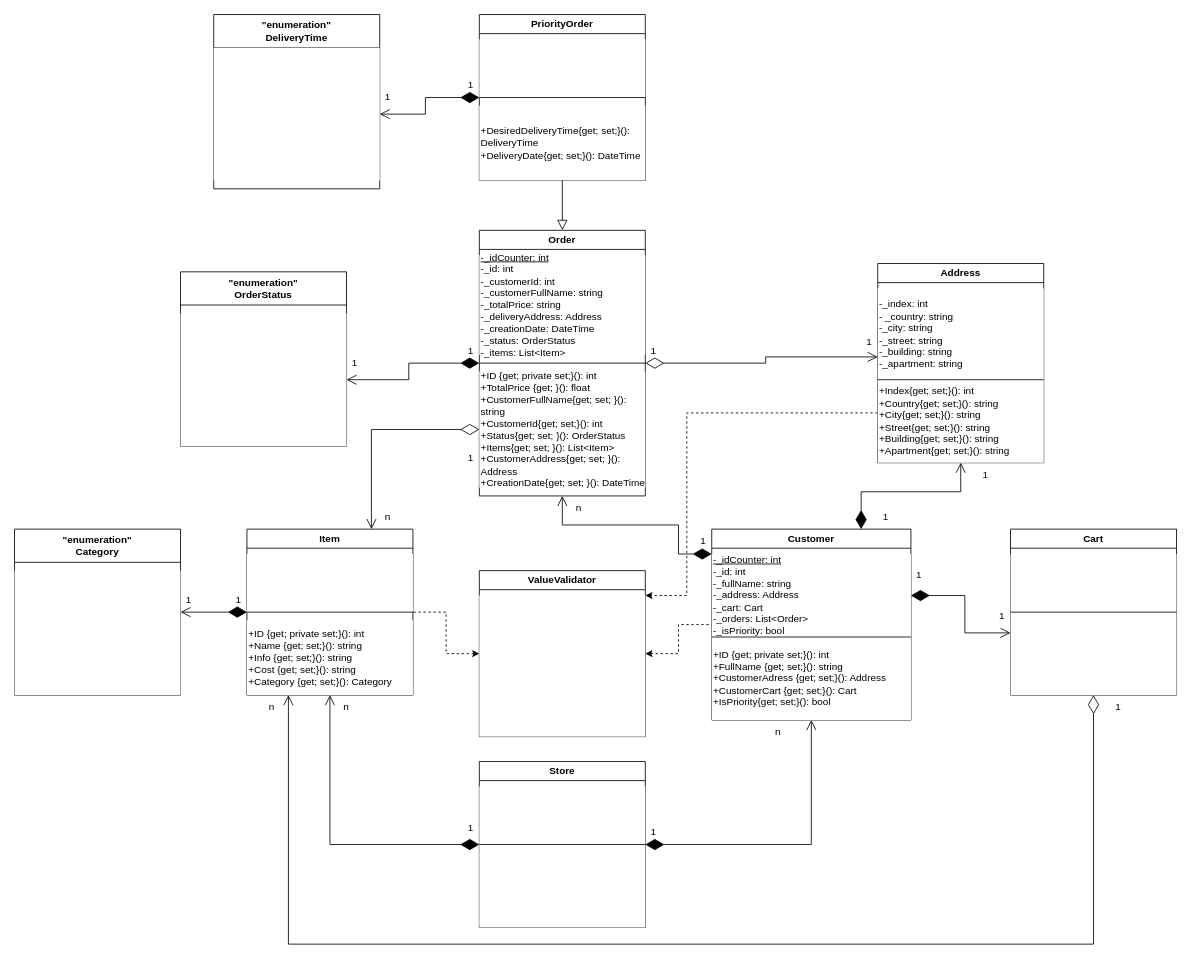
Image size: 1192x978. Some labels were removed from this diagram. Each missing label, with the centre of its shape:
+ Items{ get; set; }(): List<Item> + Amount{ get; }(): float: the point at 1093,653
+ Items{ get; set; }(): List<Item> + Customers{ get; set; }(): List<Customer >: the point at 562,885
+AssertStringOnLength(string, int, string): void: the point at 562,665
-_deliveryTime: DeliveryTime -_deliveryDate: DateTime: the point at 562,68
-_idCounter: int -_id: int -_name: string -_info: string -_cost: int: the point at 330,583
-_items: List<Item>: the point at 1093,583
-_items: List<Item> -_customers: List<Customer>: the point at 562,815
Food, Clothes, Boots, Toys, Electronics, Accessories, Books: the point at 97,632
Morning, Lunch, Afternoon, Evening, LateEvening, Night: the point at 296,113
New, Proccessing, Assembly, Sent, Delivered, Returned, Abandoned: the point at 263,379
